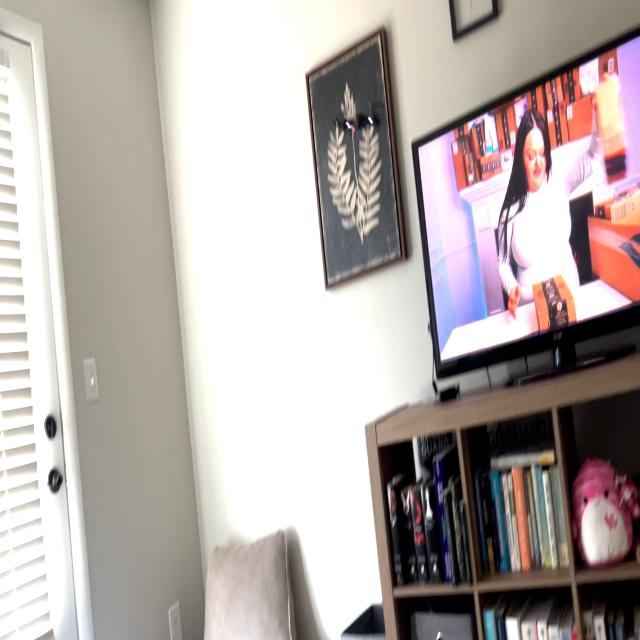drone: (312, 80, 402, 148)
